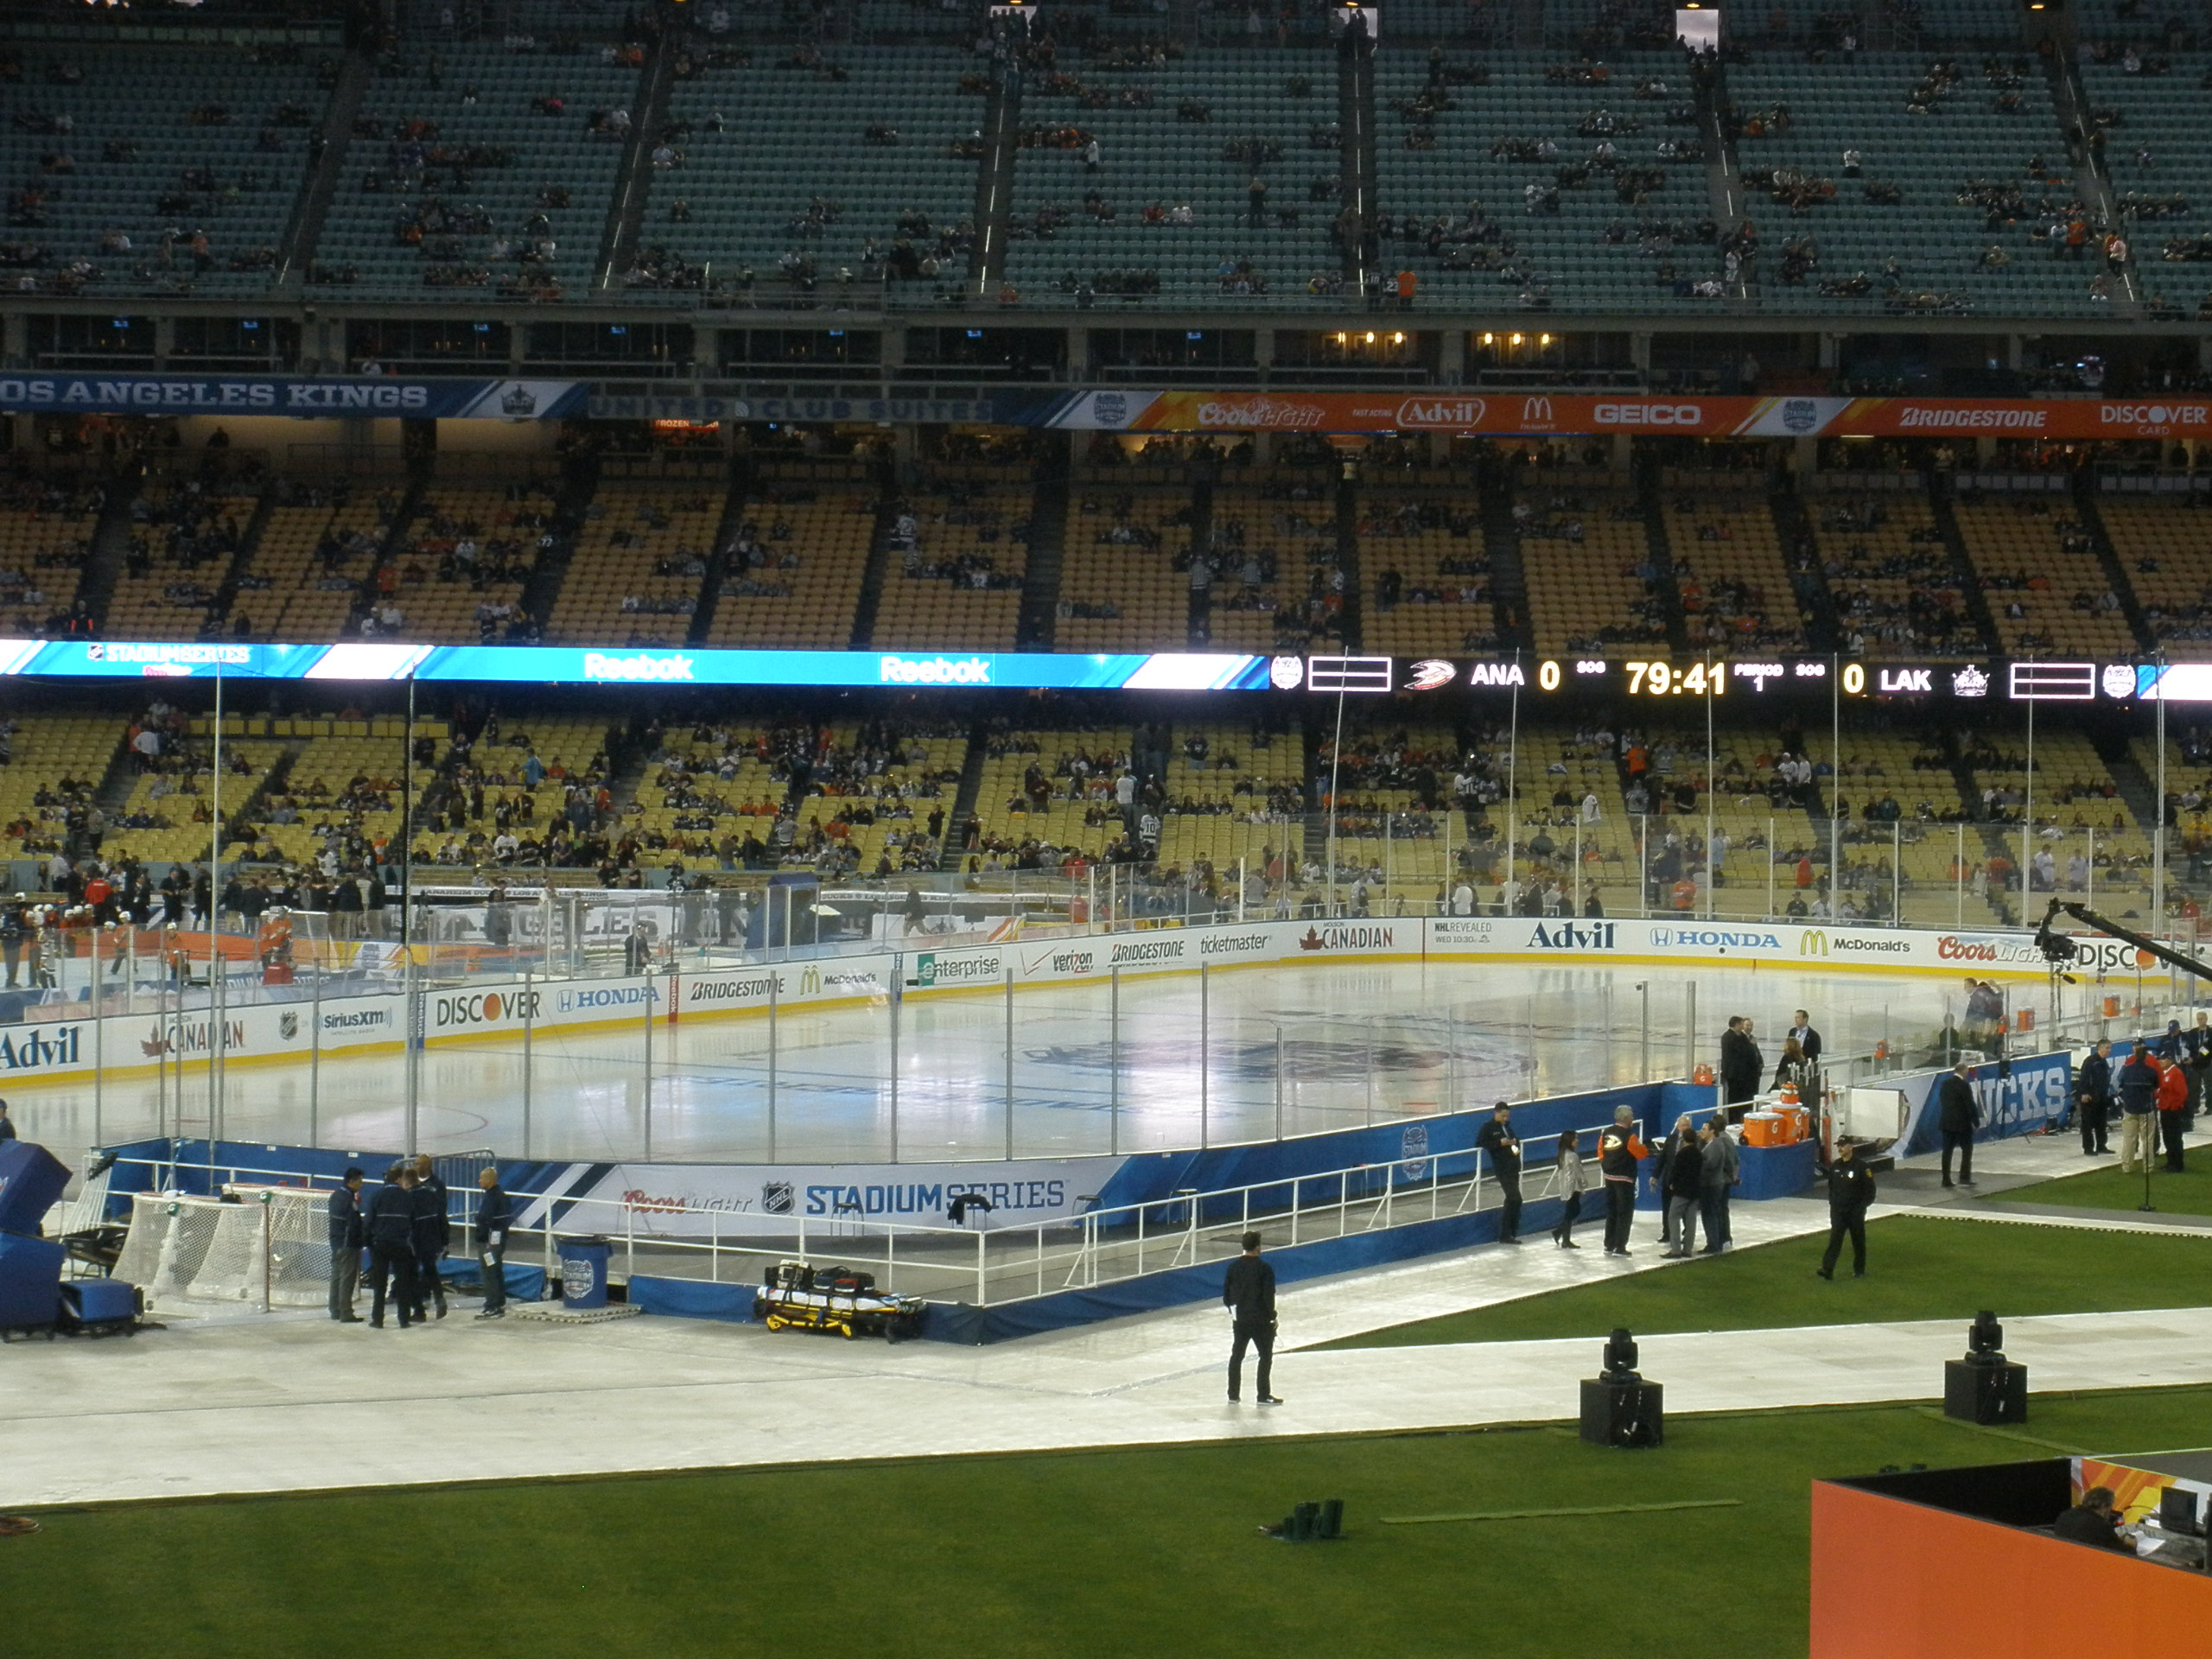Geico: (1594, 394, 1709, 432)
